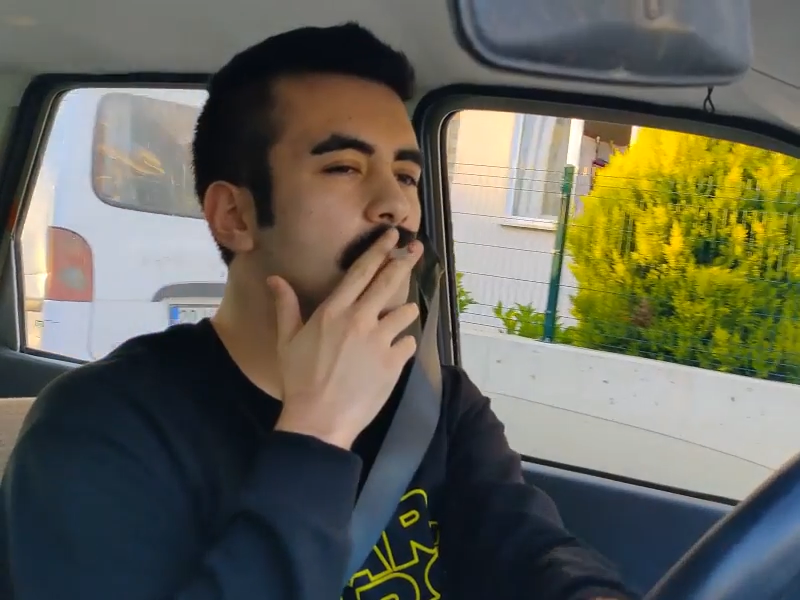sigara: (377, 235, 424, 267)
